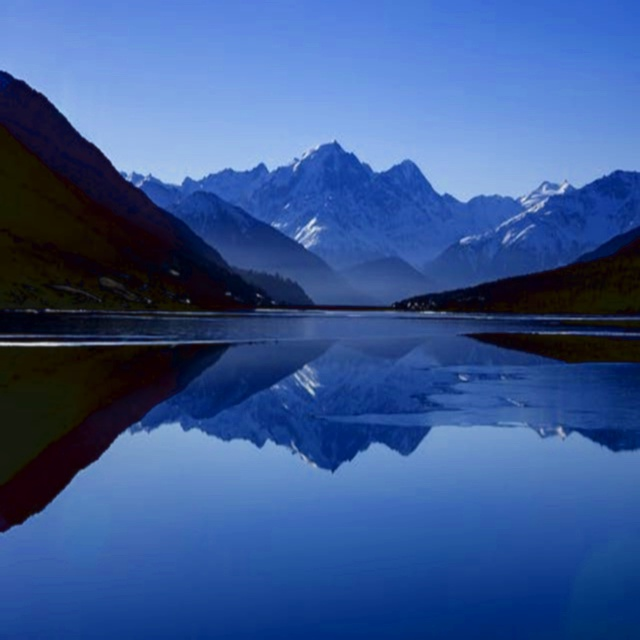clean_water: (13, 13, 627, 627)
